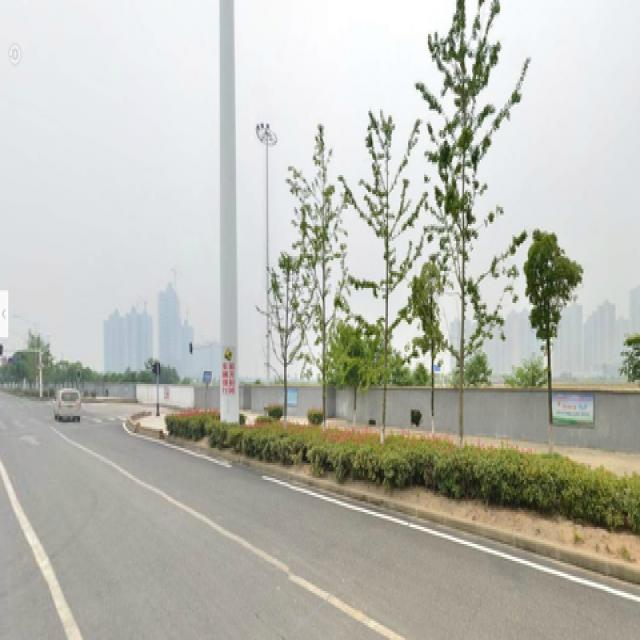gink: (426, 6, 514, 433)
